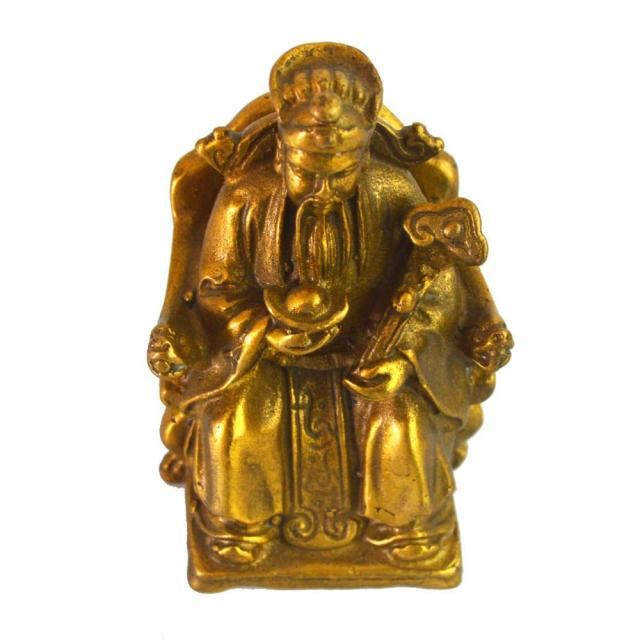Cai shen: (188, 39, 466, 482)
